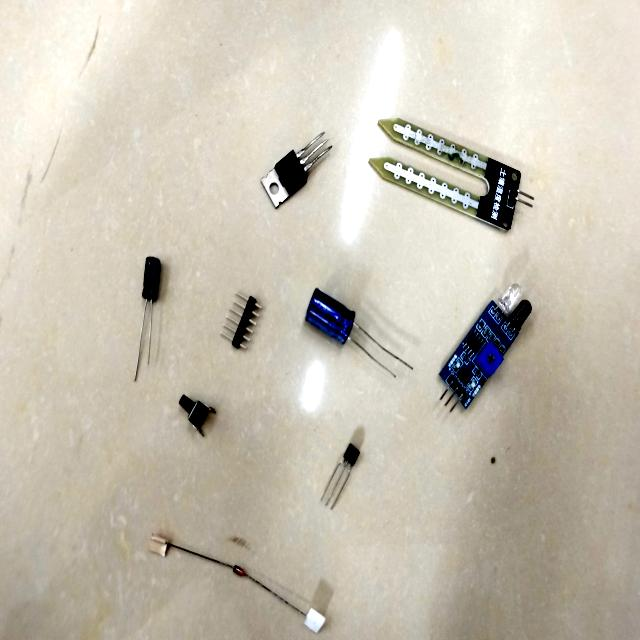capacitor: (304, 291, 401, 373), (142, 256, 170, 304)
